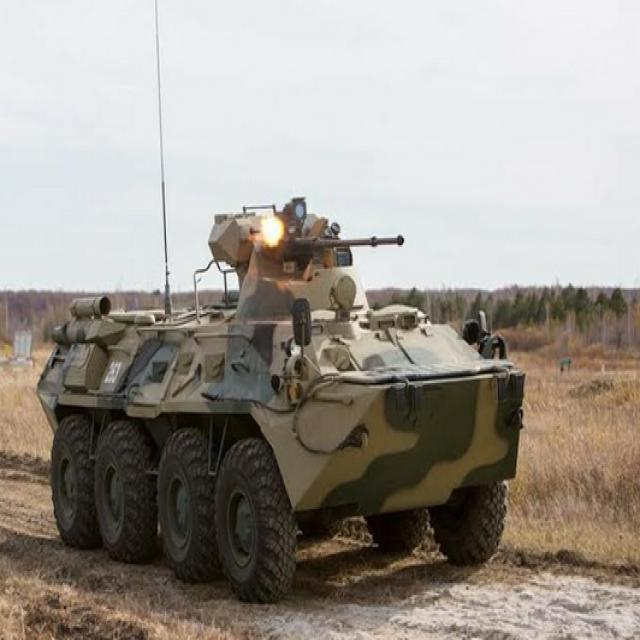MIL_APC: (22, 199, 537, 589)
